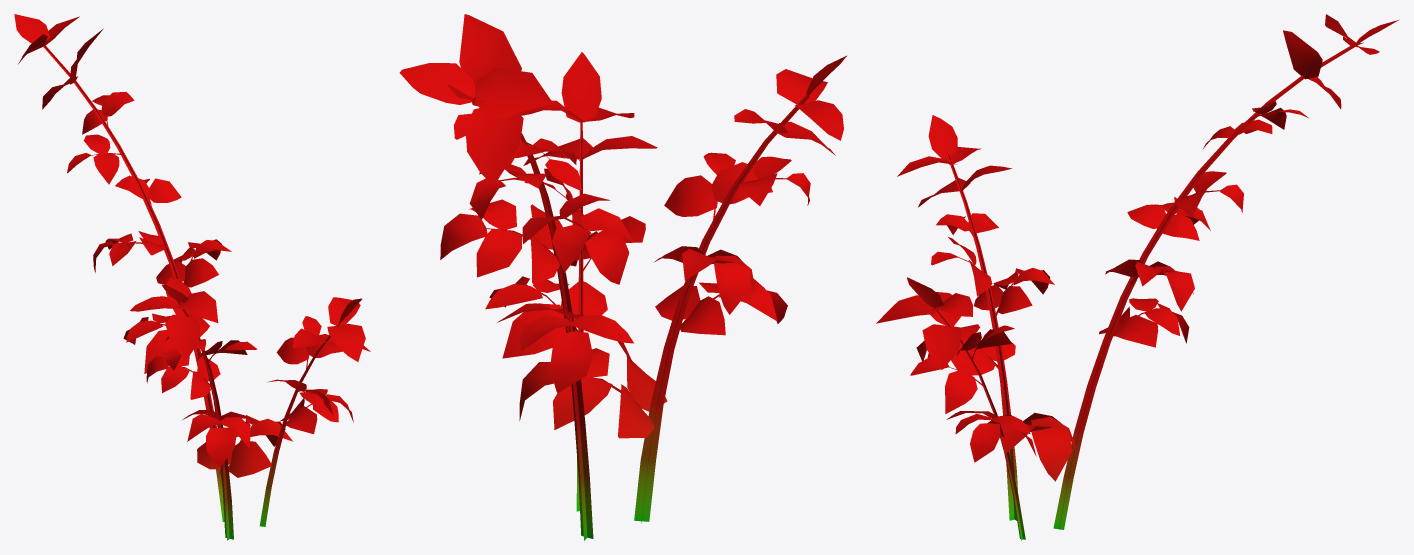
File: Raspberry_LOD2_Var9_wf0oefeja.fbx
3 views of the same model, side by side, from view 1: azimuth 30°, elevation 25°; view 2: azimuth 150°, elevation 25°; view 3: azimuth 270°, elevation 25° (orthographic). The views are drawn at different scales.
Visible parts, largest first — view 1: _jvwl_Var9_LOD2; view 2: _jvwl_Var9_LOD2; view 3: _jvwl_Var9_LOD2.
Part boxes in pixels (left/top/right/bottom): _jvwl_Var9_LOD2: left=14, top=14, right=370, bottom=540; _jvwl_Var9_LOD2: left=399, top=14, right=846, bottom=540; _jvwl_Var9_LOD2: left=876, top=14, right=1399, bottom=540.
Bounding box in the file's own units: 29.44 × 53.1 × 51.84.
